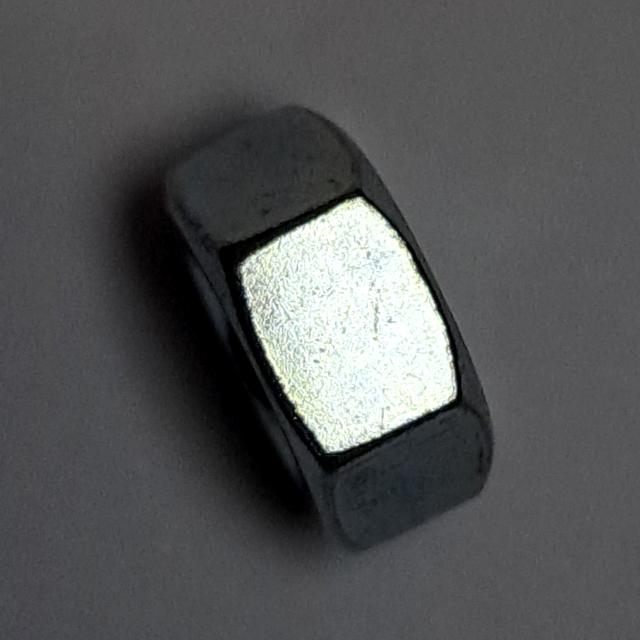Side_Excellent: (149, 85, 507, 572)
